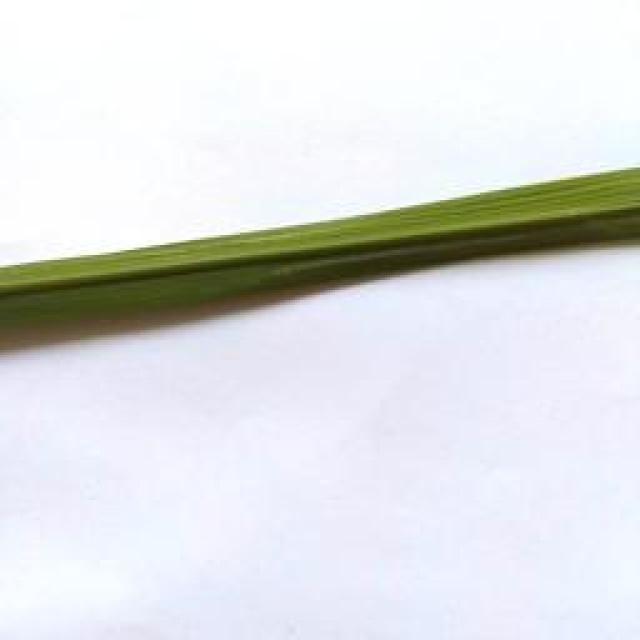Healthy-Plant: (0, 151, 640, 347)
